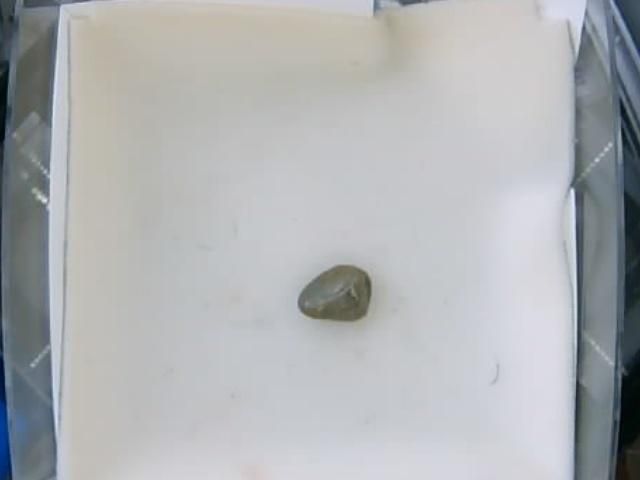Pebble: (298, 264, 369, 320)
